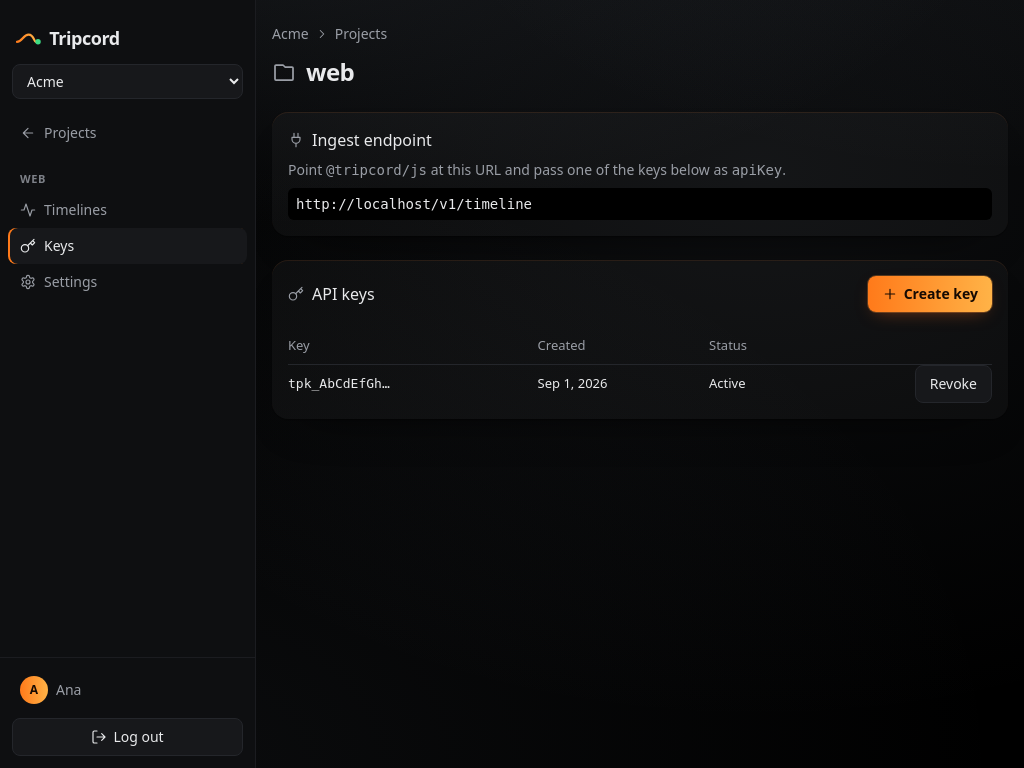
project page › shows a new key once; it's gone after navigating away and back
The width and height of the screenshot is (1024, 768).
Click the button "Create key": (930, 294) x1=868 y1=276 x2=992 y2=312
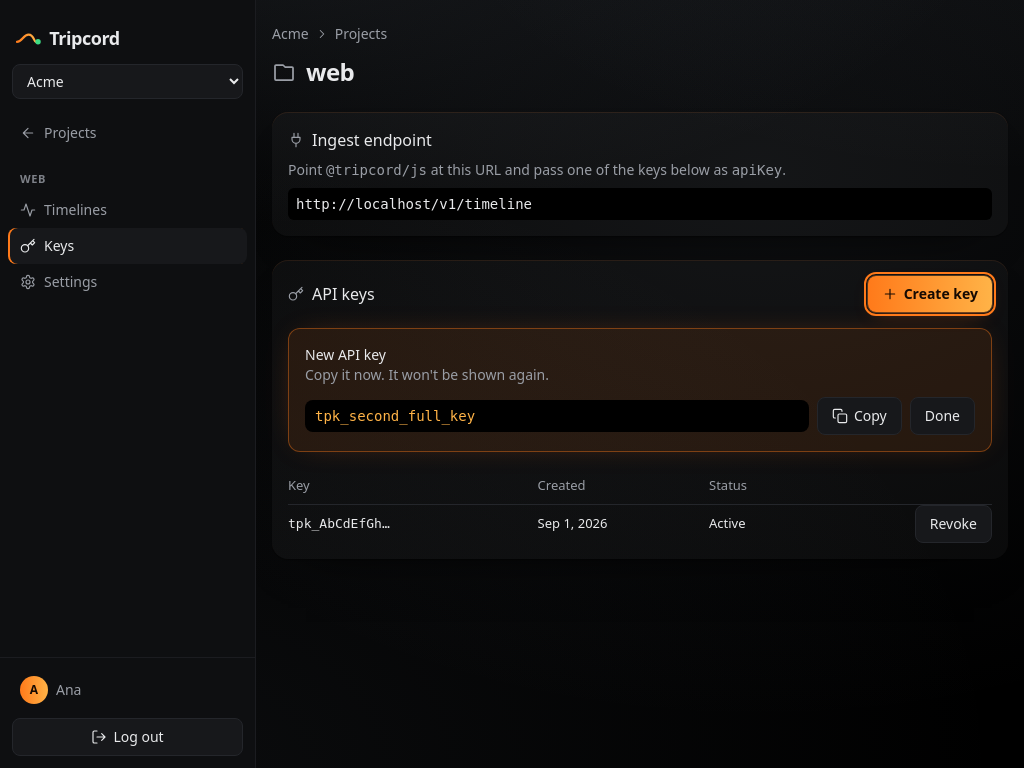
Result: the text "tpk_second_full_key" is shown at x1=305 y1=400 x2=809 y2=432
Click the link "Projects" next to "Acme": (361, 34) x1=335 y1=24 x2=387 y2=44
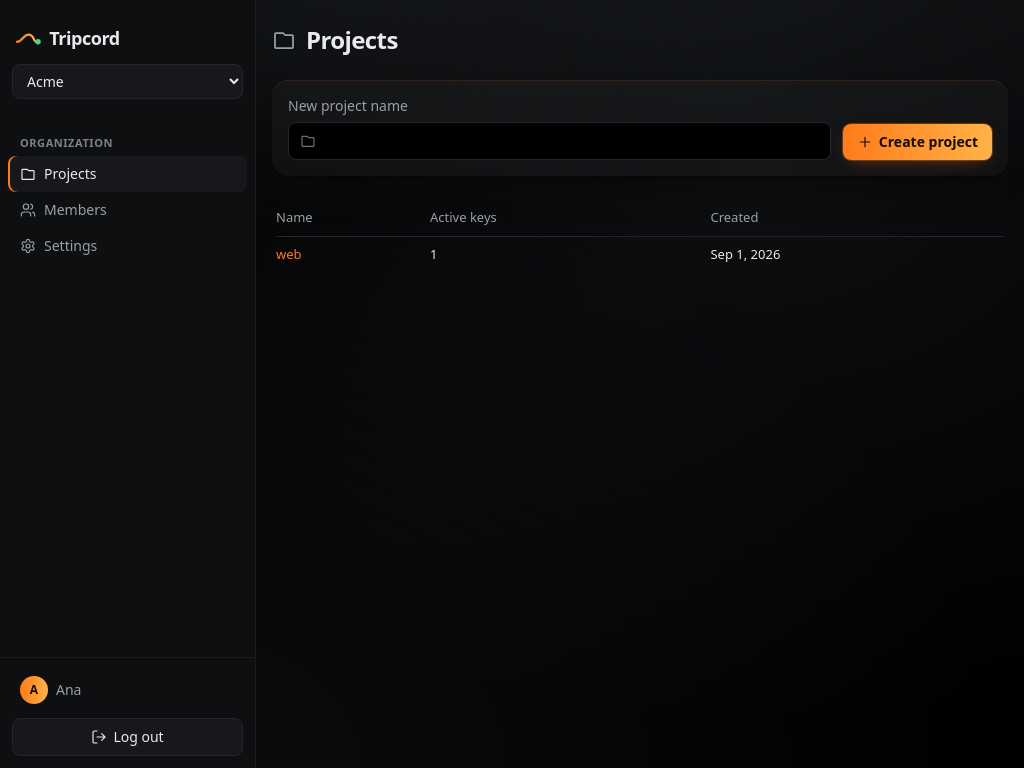
Click the link "web": (289, 254) x1=276 y1=244 x2=302 y2=262
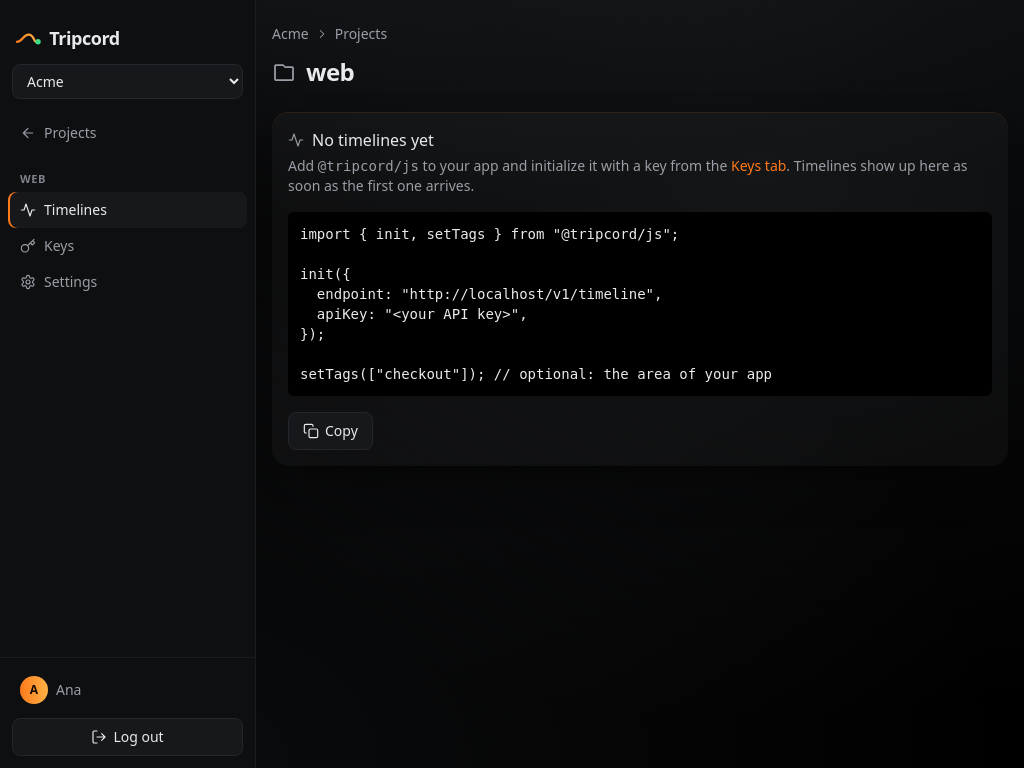
Click the link "Keys": (47, 245) x1=20 y1=236 x2=74 y2=255
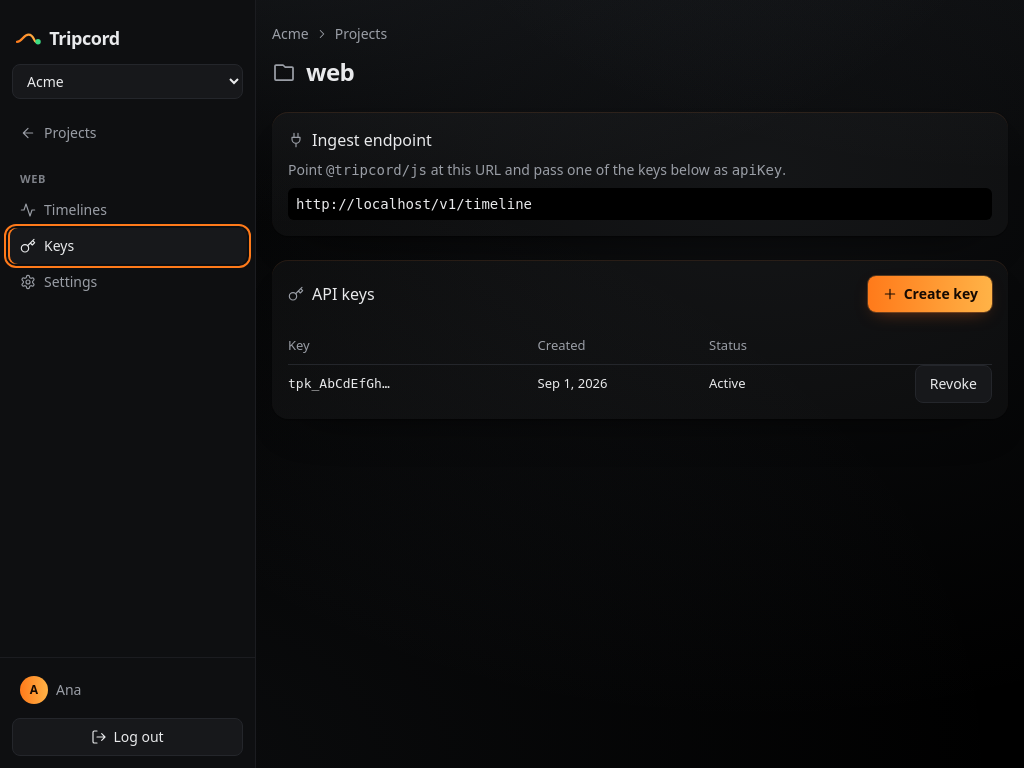
Expected: the text "tpk_second_full_key" is not shown
Result: the text "tpk_AbCdEfGh…" is shown at x1=288 y1=364 x2=538 y2=402
